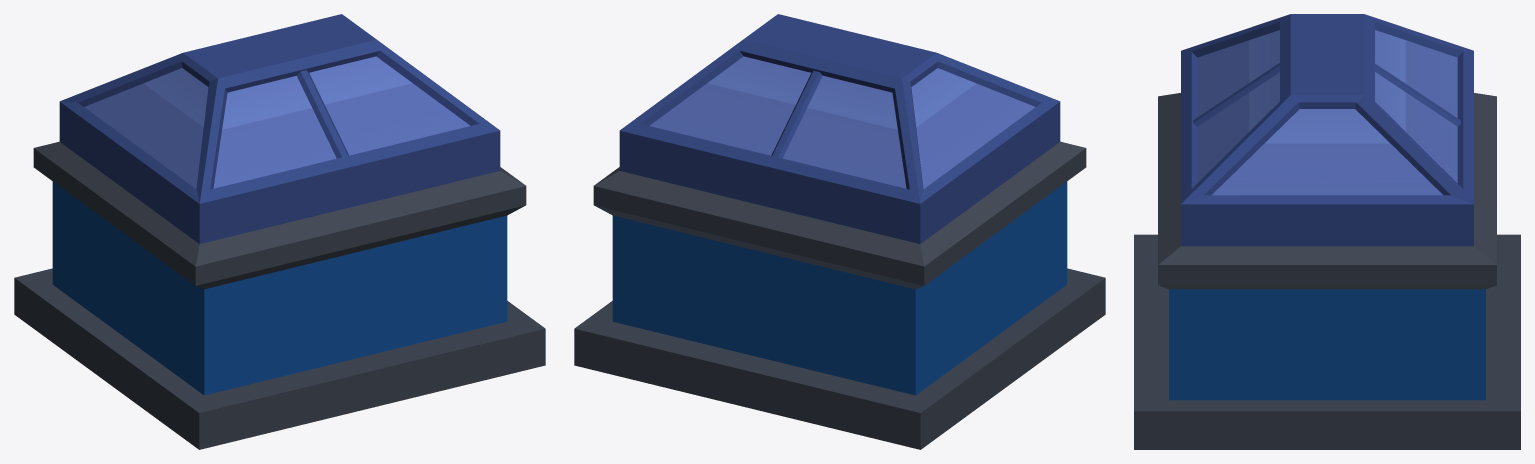
Rendered from RoofLights_1_E.fbx.
3 views of the same model, side by side, from view 1: azimuth 30°, elevation 25°; view 2: azimuth 150°, elevation 25°; view 3: azimuth 270°, elevation 25° (orthographic). The views are drawn at different scales.
Parts seen in each view (by area): view 1: RoofLights_1_E; view 2: RoofLights_1_E; view 3: RoofLights_1_E.
Boxes of the visible parts, box(x1,y1,x2,y2) form: RoofLights_1_E: box(14, 14, 545, 449); RoofLights_1_E: box(574, 14, 1105, 449); RoofLights_1_E: box(1134, 14, 1520, 449).
Size of the model in its own units: 107 by 86.65 by 98.88.
